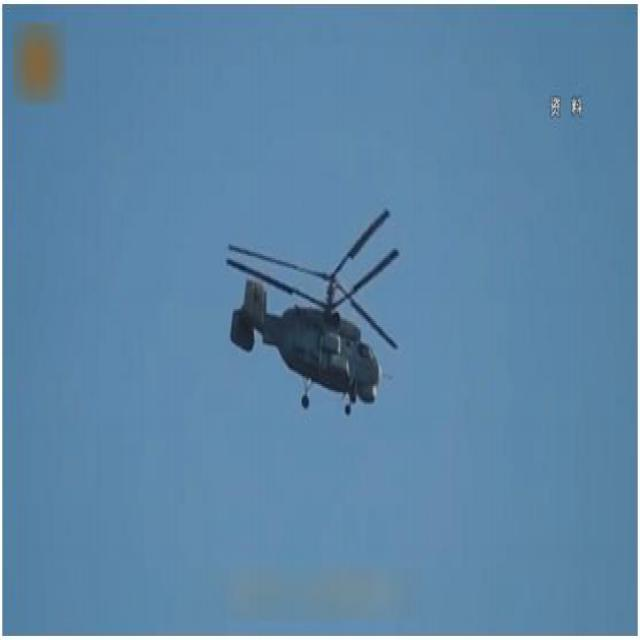MIL_HELO: (202, 185, 422, 441)
